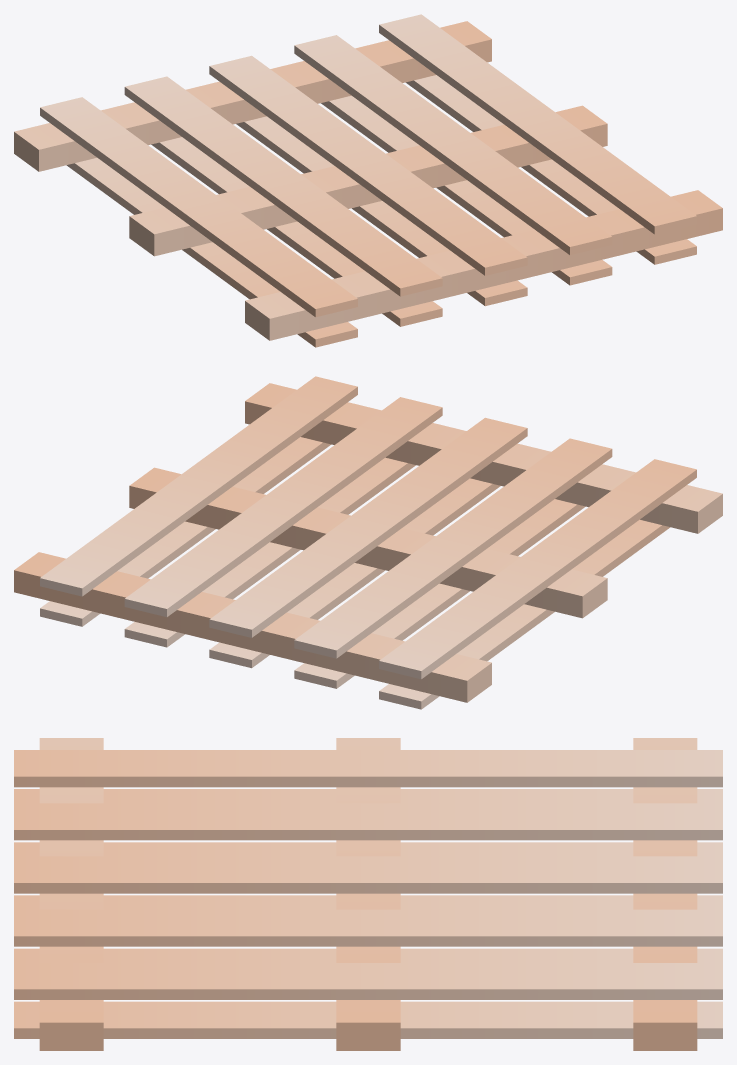
Rendered from PapanKayu.fbx.
3 renders of one model, top to bottom at view 1: azimuth 30°, elevation 25°; view 2: azimuth 150°, elevation 25°; view 3: azimuth 270°, elevation 25°, orthographic. The views are drawn at different scales.
Parts seen in each view (by area): view 1: PapanKayu_LOD0; view 2: PapanKayu_LOD0; view 3: PapanKayu_LOD0.
Part boxes in pixels (left/top/right/bottom): PapanKayu_LOD0: left=14, top=14, right=722, bottom=347; PapanKayu_LOD0: left=14, top=376, right=722, bottom=709; PapanKayu_LOD0: left=14, top=738, right=722, bottom=1050.
Size of what is drawn, in the model's own units: 190 by 15.41 by 200.
